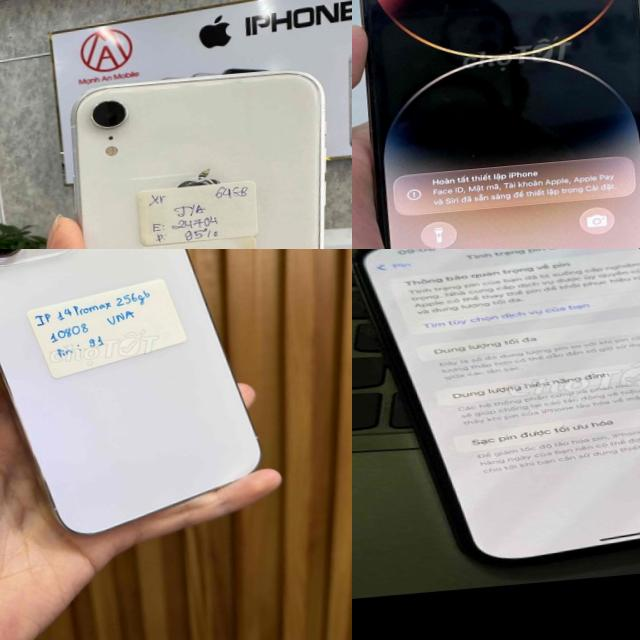gen_12_13: (352, 249, 640, 583)
gen_14: (0, 249, 270, 548), (352, 0, 640, 249)
gen_x_xs: (54, 61, 342, 249)
